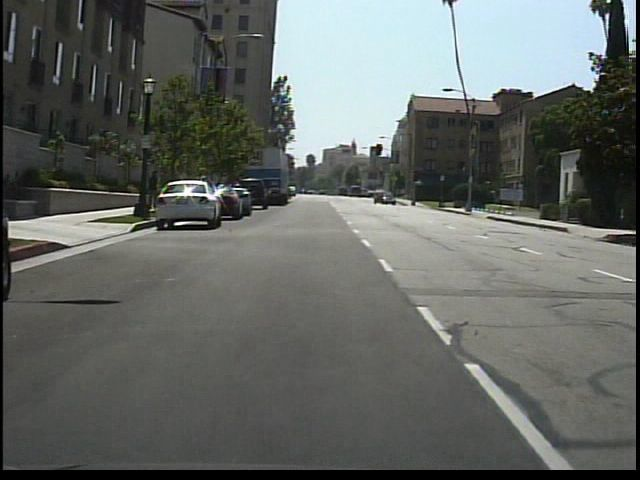person: (146, 167, 164, 214)
